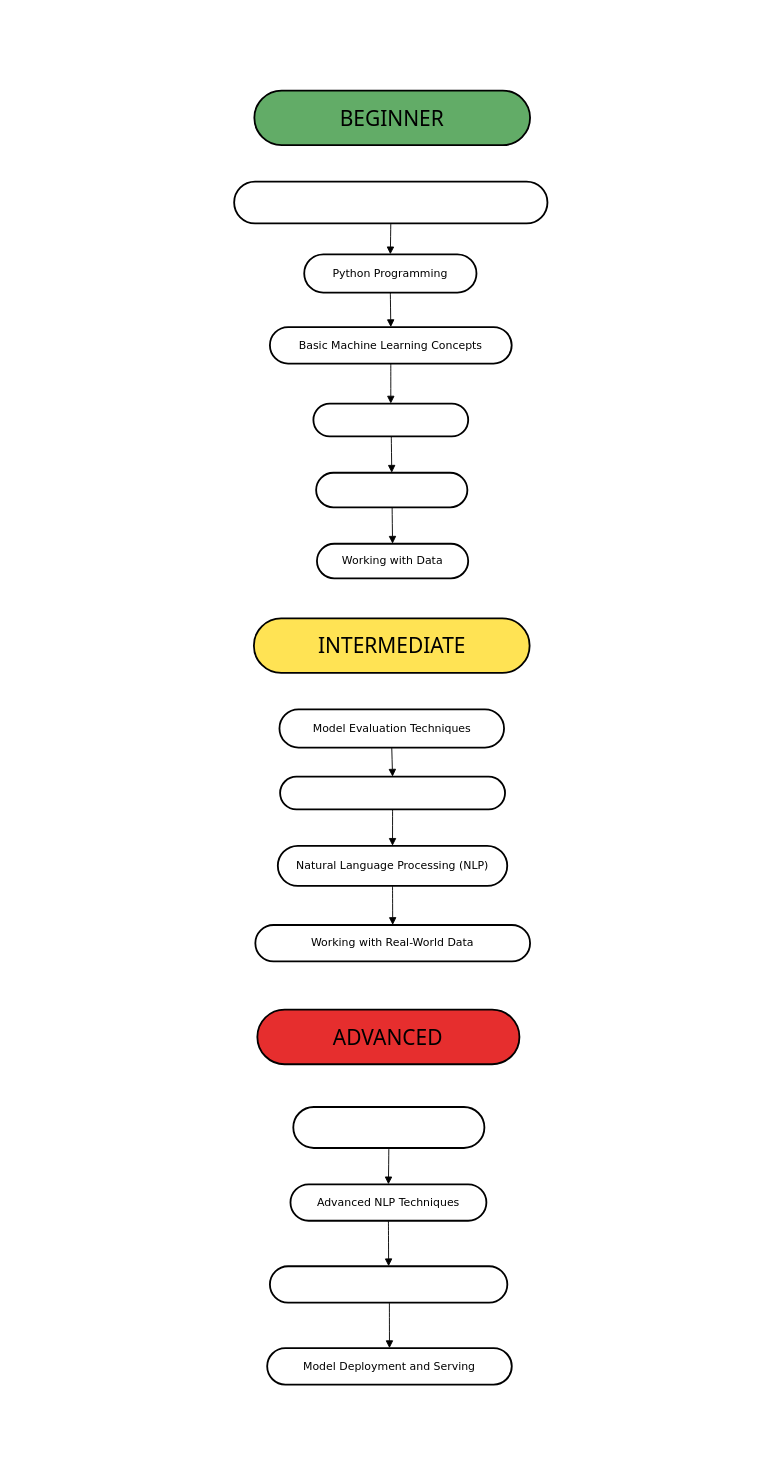
Some shapes in this 781 by 1472 pixel diagram are drawn without their labels. The box of each missing label's shape, as (x1, y1, x2, y2) in pixels:
Deep Learning Foundations: (292, 1106, 485, 1148)
Introduction to Neural Networks: (279, 775, 506, 810)
Math Fundamentals (Calculus, Linear Algebra, Probability and Statistics): (233, 180, 548, 224)
Reinforcement Learning Basics: (269, 1265, 508, 1303)
Supervised Learning: (312, 402, 469, 437)
Unsupervised Learning: (315, 471, 468, 508)
